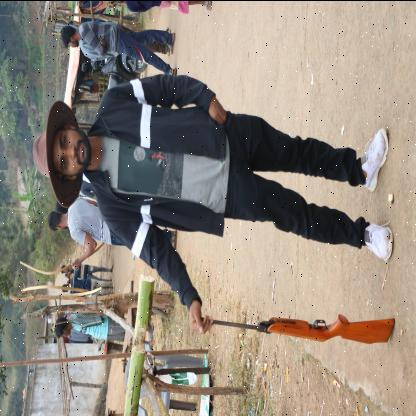rifle: (193, 310, 398, 346)
